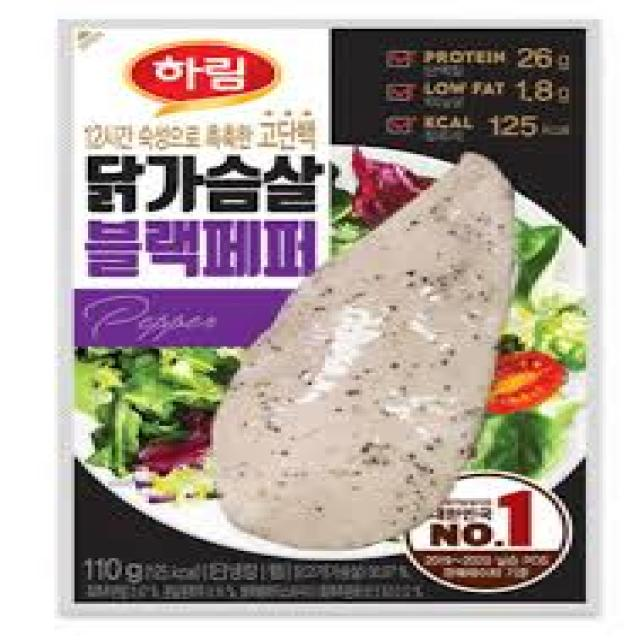chicken: (202, 142, 528, 552)
